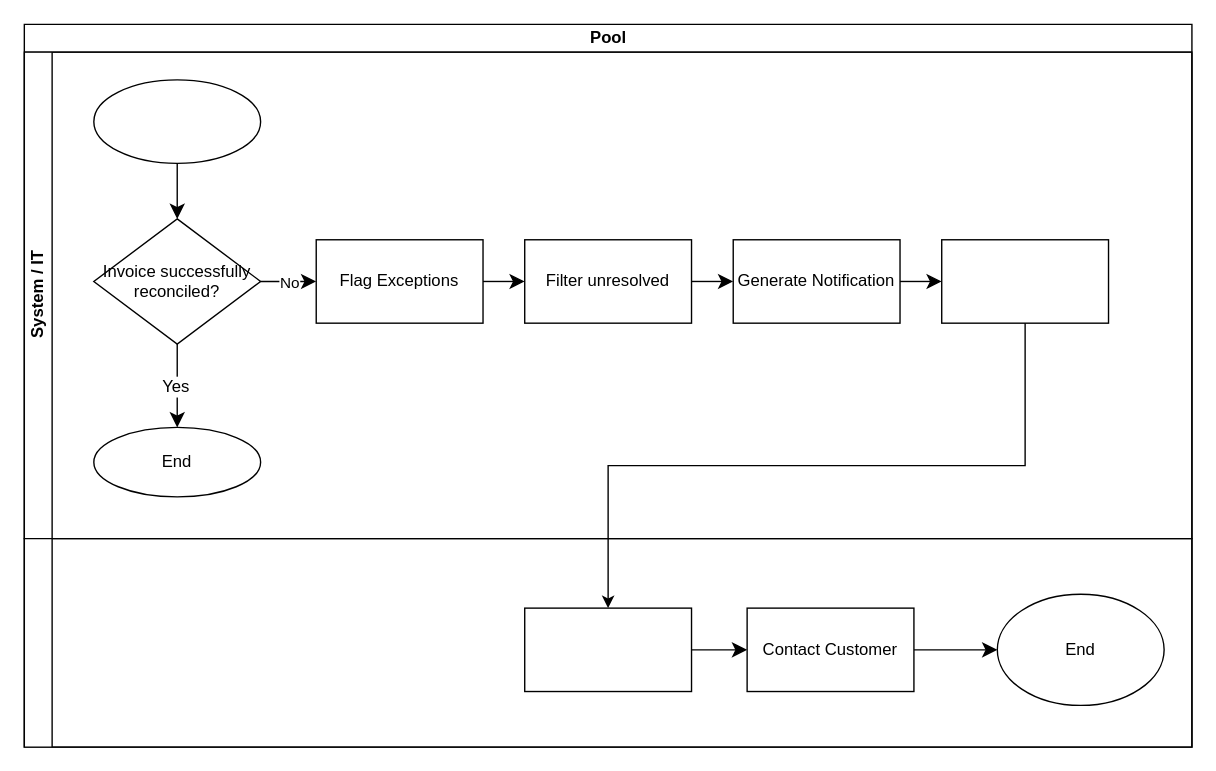
This 1216x771 diagram has some shape labels left out. The shapes that lost their labels are listed below. From the top down, each one's box as (x1, y1, x2, y2) in pixels, then its label:
(92, 79, 261, 163): Daily reconciliation runs
(940, 238, 1109, 323): Send to Customer Care
(23, 537, 1192, 747): Customer Care
(523, 607, 692, 692): Receive Notification
